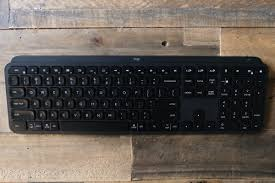keyboard: (1, 51, 274, 134)
